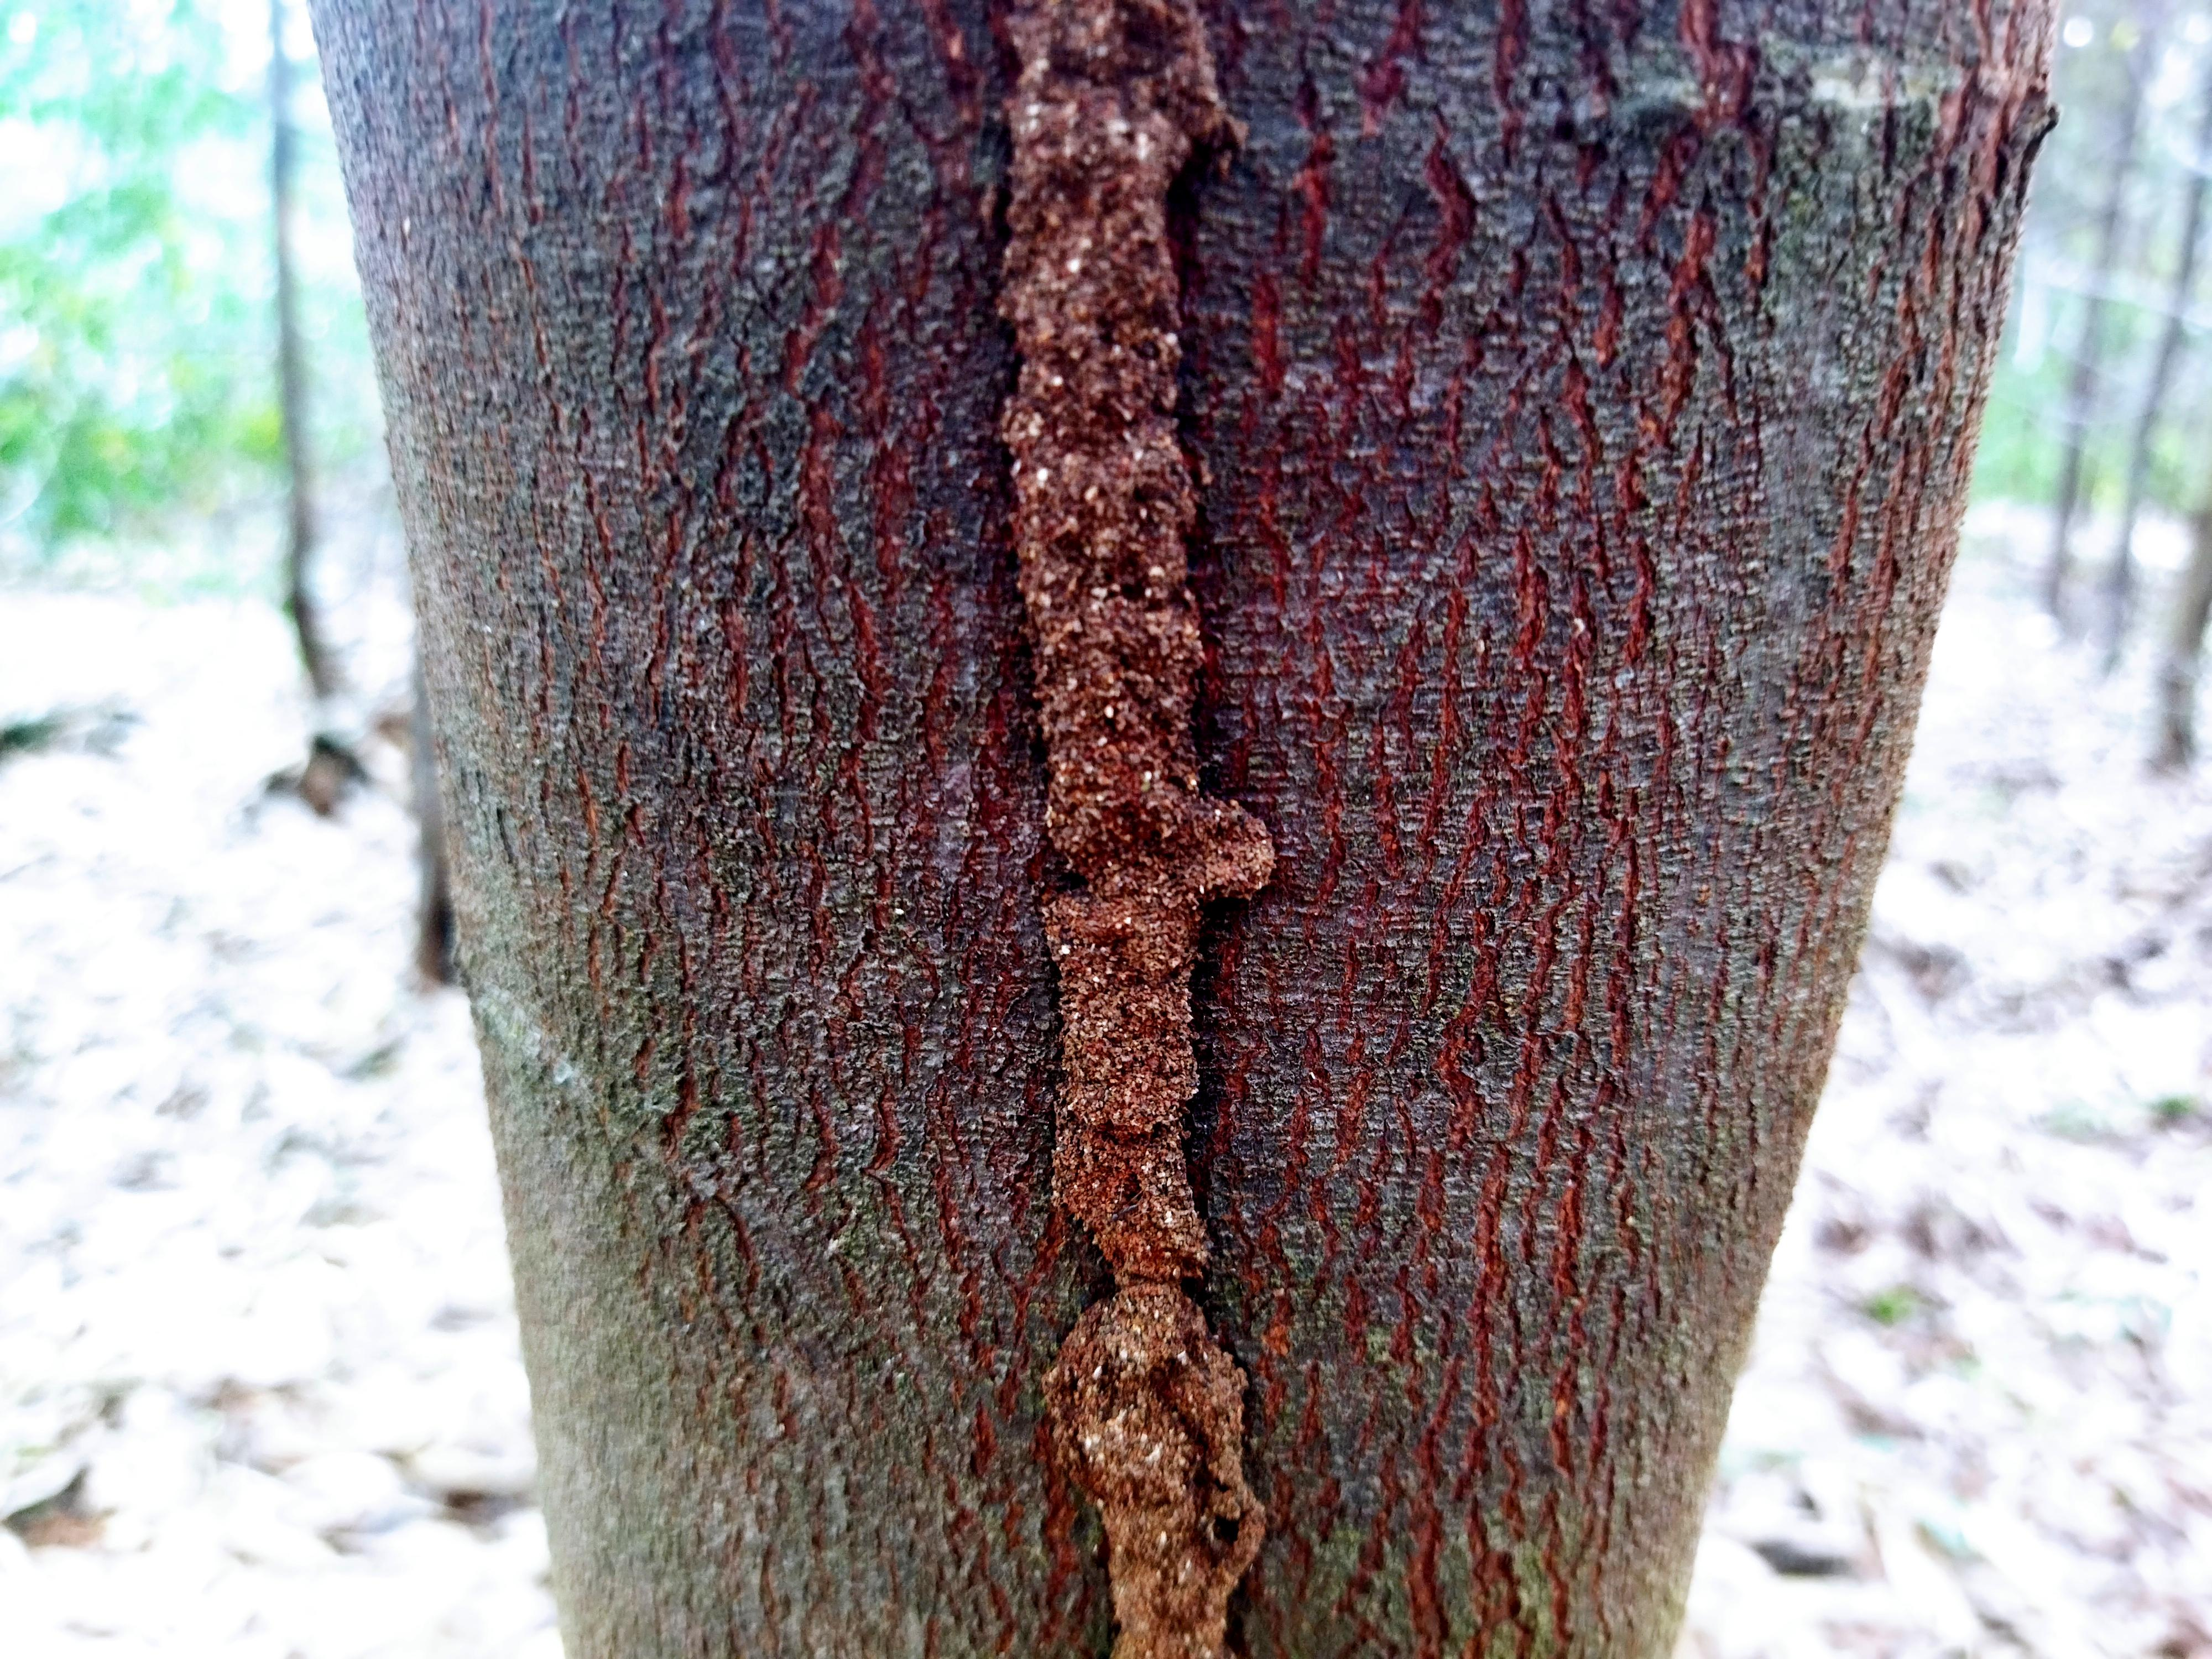Termite - Nest: (935, 12, 1524, 1659)
